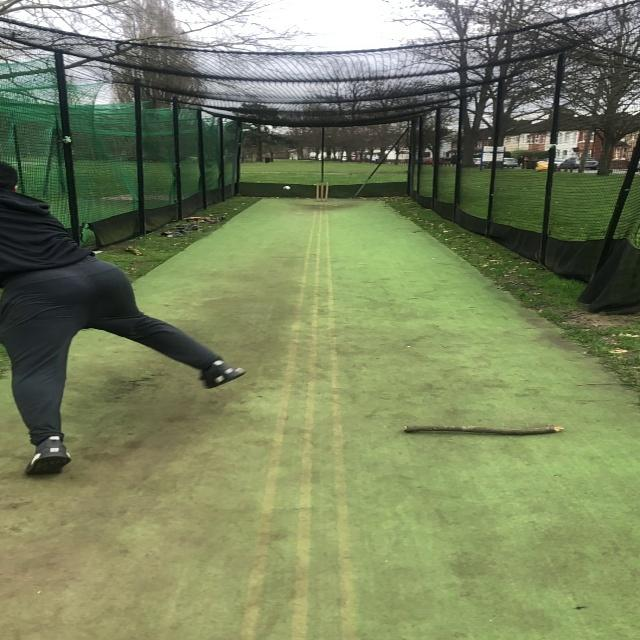ball: (282, 185, 291, 191)
